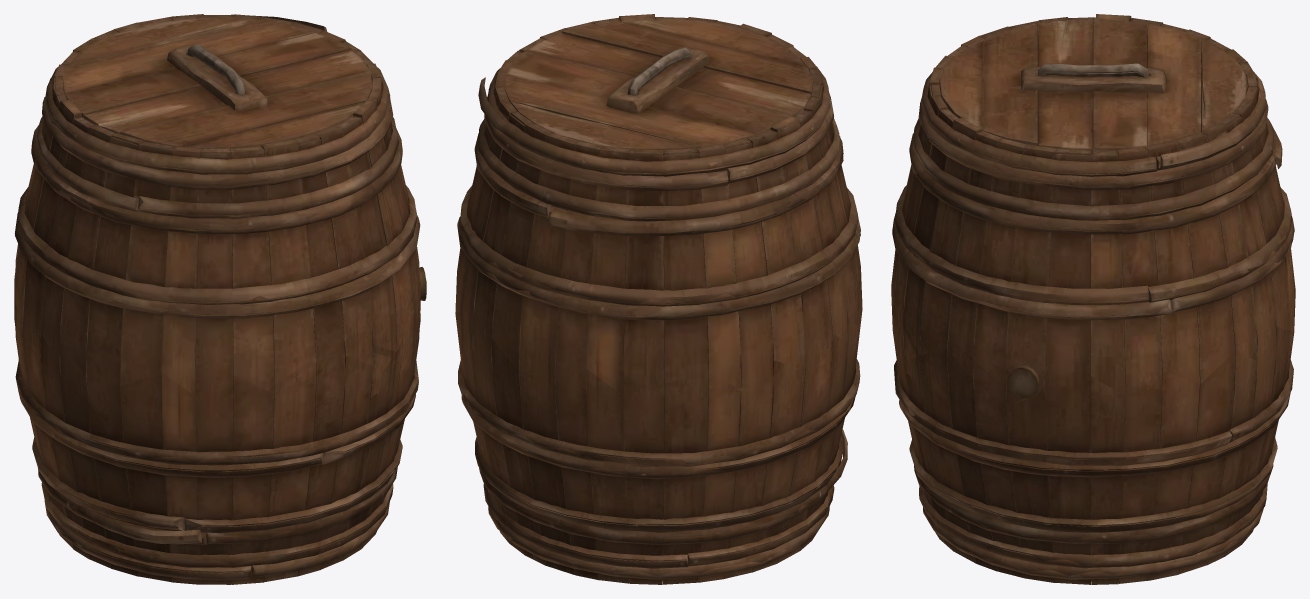
The model's file is wooden_barrels_01.glb.
The picture shows the model from 3 angles, left to right: view 1: azimuth 30°, elevation 25°; view 2: azimuth 150°, elevation 25°; view 3: azimuth 270°, elevation 25°; orthographic projection.
Visible parts, largest first — view 1: wooden_barrels_01_a_lod0, wooden_barrels_01_b_lod0; view 2: wooden_barrels_01_a_lod0, wooden_barrels_01_b_lod0; view 3: wooden_barrels_01_a_lod0, wooden_barrels_01_b_lod0.
Part boxes in pixels (x1,y1,x2,y2): wooden_barrels_01_a_lod0: (14, 14, 426, 582); wooden_barrels_01_b_lod0: (14, 26, 426, 584); wooden_barrels_01_a_lod0: (455, 14, 862, 580); wooden_barrels_01_b_lod0: (455, 17, 862, 584); wooden_barrels_01_a_lod0: (891, 14, 1295, 578); wooden_barrels_01_b_lod0: (891, 32, 1295, 584).
Size of what is drawn, in the model's own units: 0.7434 by 0.9193 by 0.7433.
2 materials, 2 textured.
